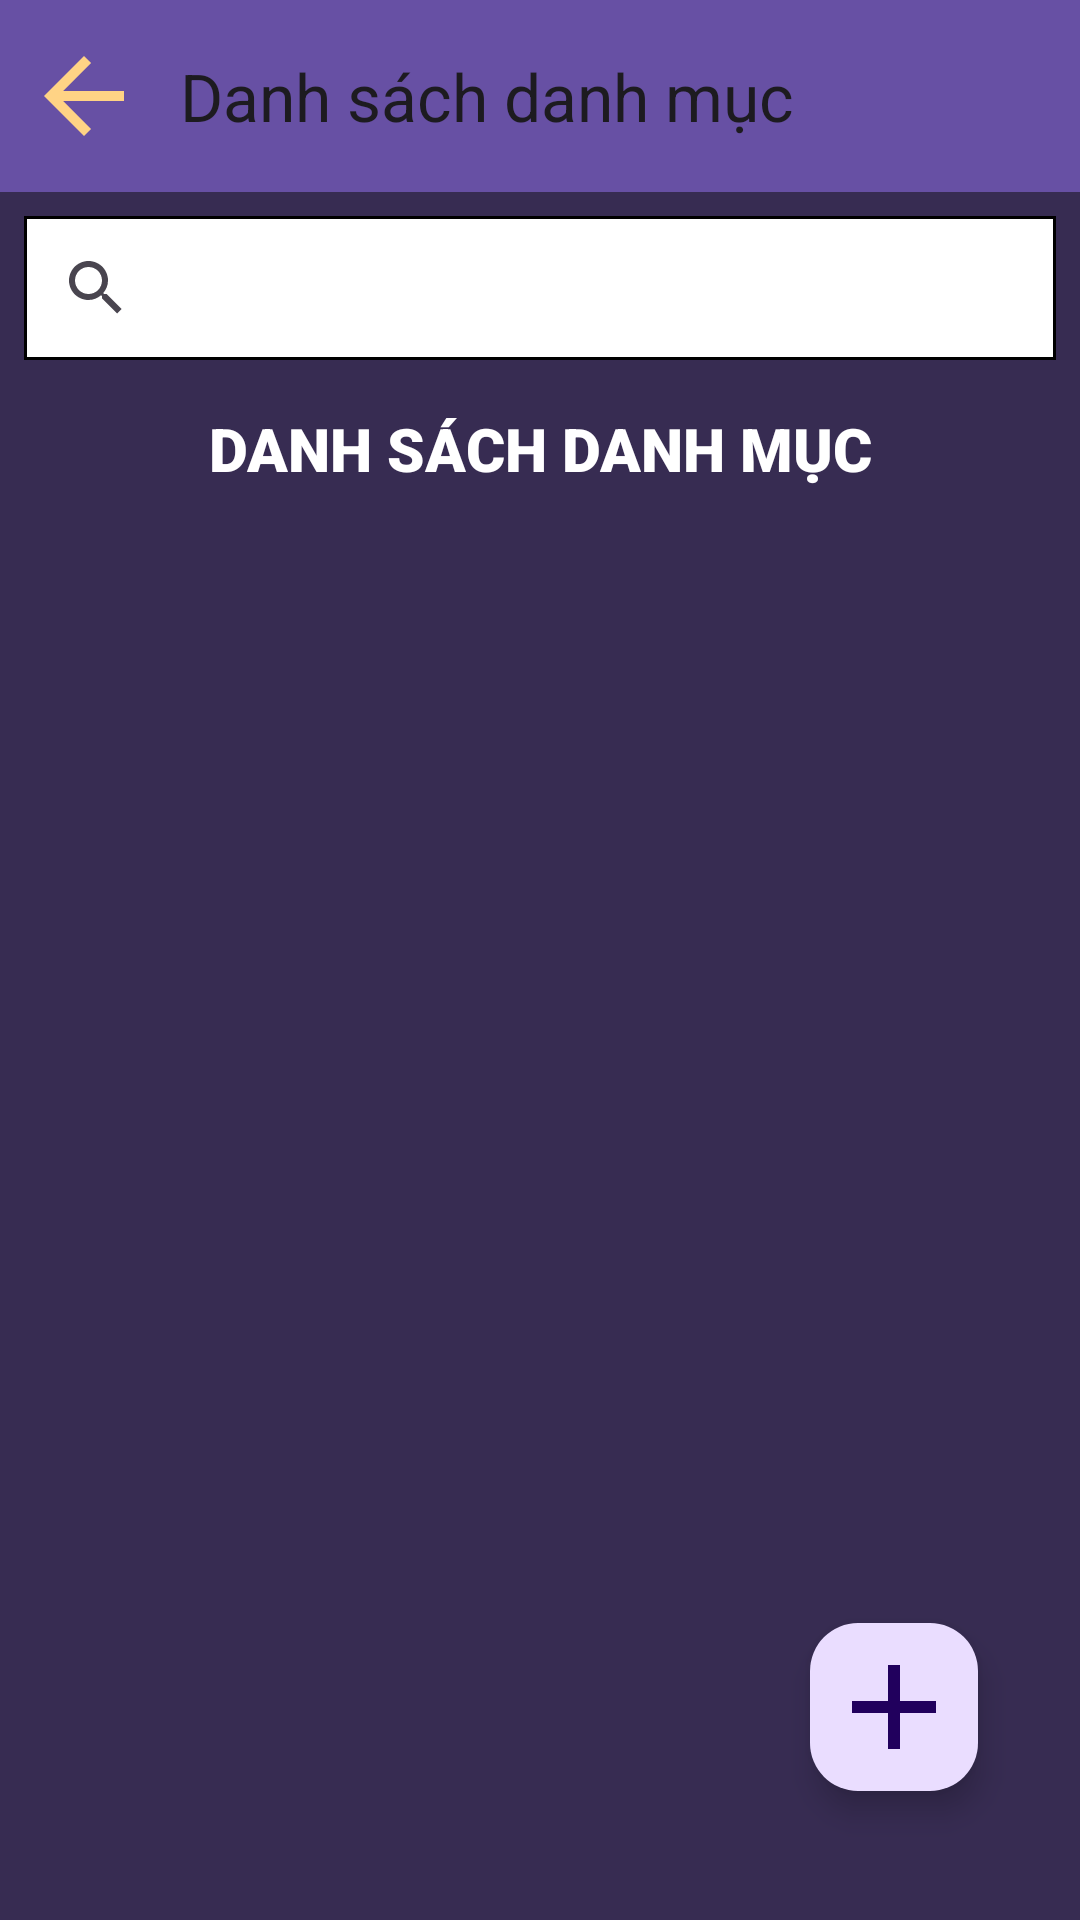

Where to tap for icons on this 1080*1920 app screen, as point (x, y):
add: point (894, 1707)
